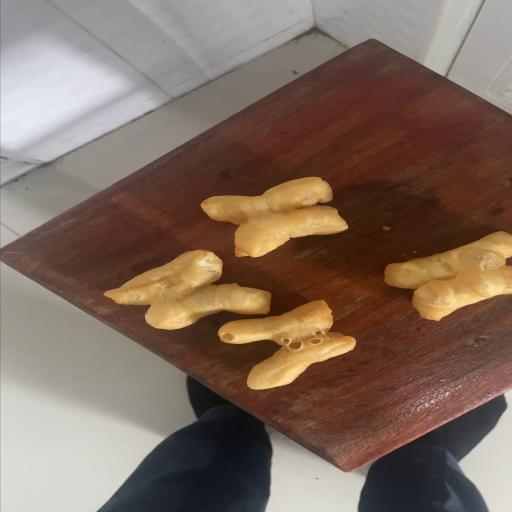street_golden_defect: (218, 301, 356, 390), (384, 231, 512, 321)
street_golden_good: (104, 250, 271, 330), (201, 177, 347, 257)
